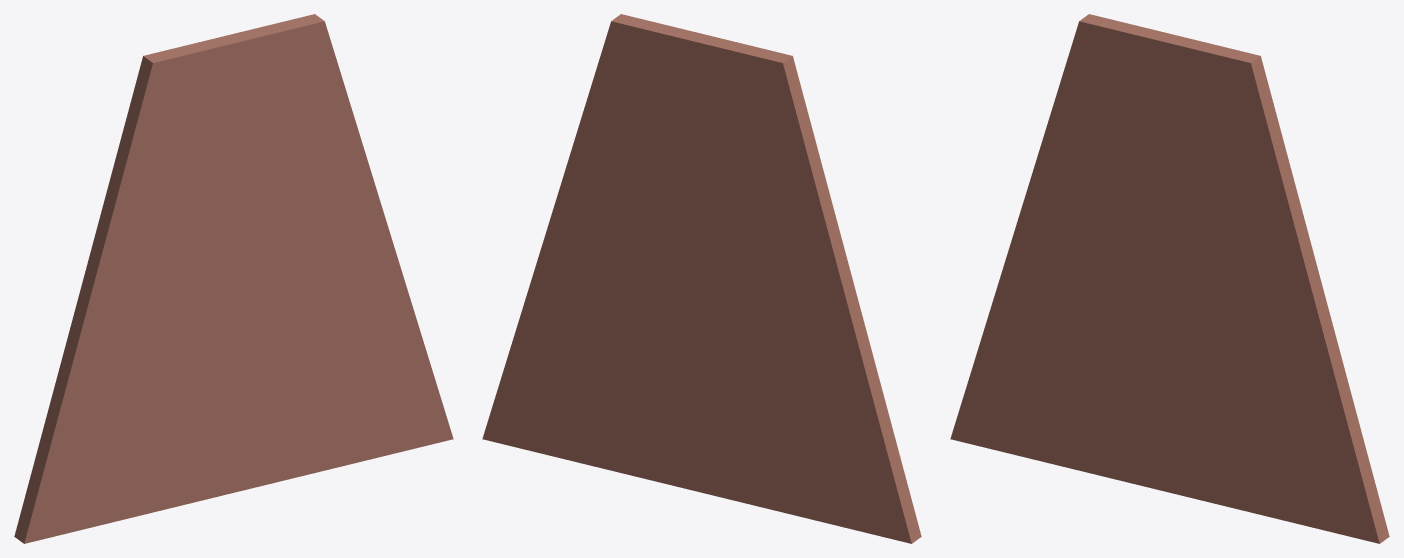
Rendered from mod_roof_hip_slope.glb.
3 renders of one model, left to right at view 1: azimuth 30°, elevation 25°; view 2: azimuth 150°, elevation 25°; view 3: azimuth 330°, elevation 25°, orthographic.
Parts seen in each view (by area): view 1: roof_slope; view 2: roof_slope; view 3: roof_slope.
Part boxes in pixels (bbox=[...]): roof_slope: bbox=[14, 14, 453, 543]; roof_slope: bbox=[482, 14, 921, 543]; roof_slope: bbox=[950, 14, 1389, 543].
Size of the model in its own units: 1 by 1 by 0.04.
